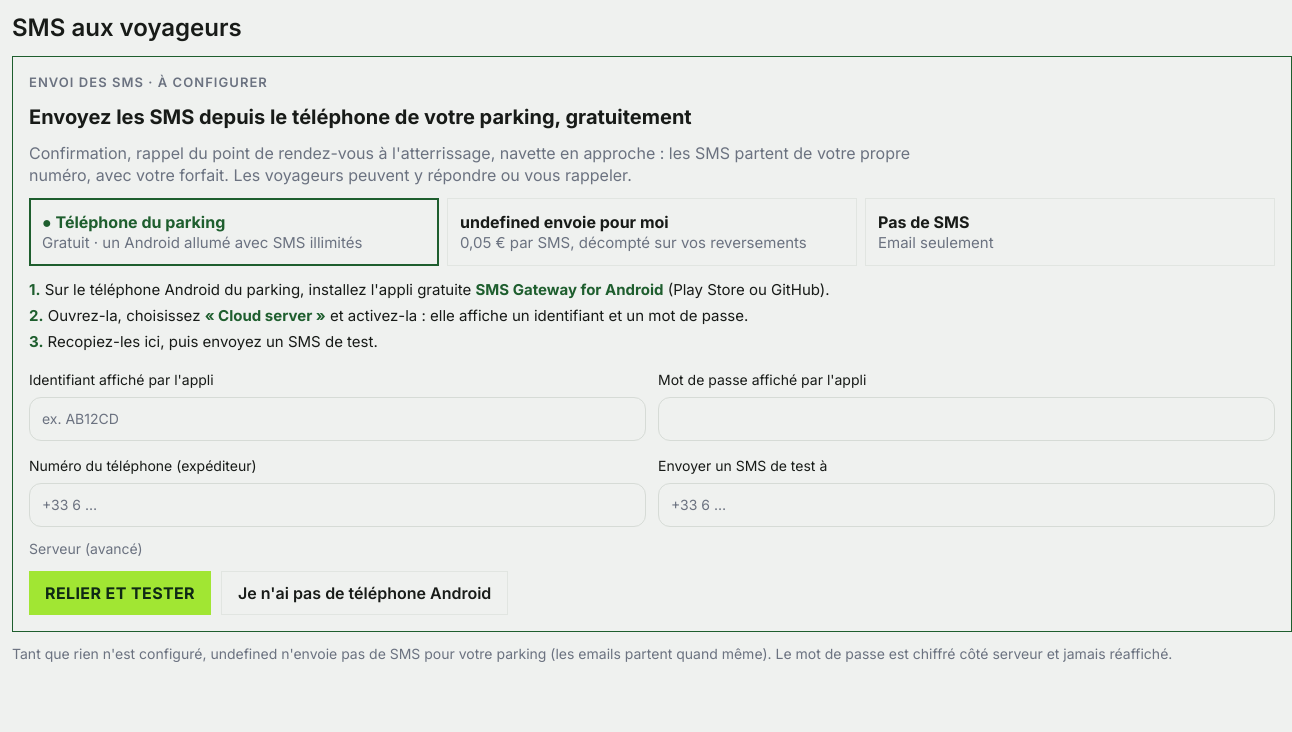
Test: SMS aux voyageurs : avant liaison › montre les erreurs de champ renvoyées par l'API
The image size is (1292, 732).
Step 1. Type "AB12CD" into the field labelled "Identifiant affiché par l'appli" → point(338, 419), box [29,397,646,441]
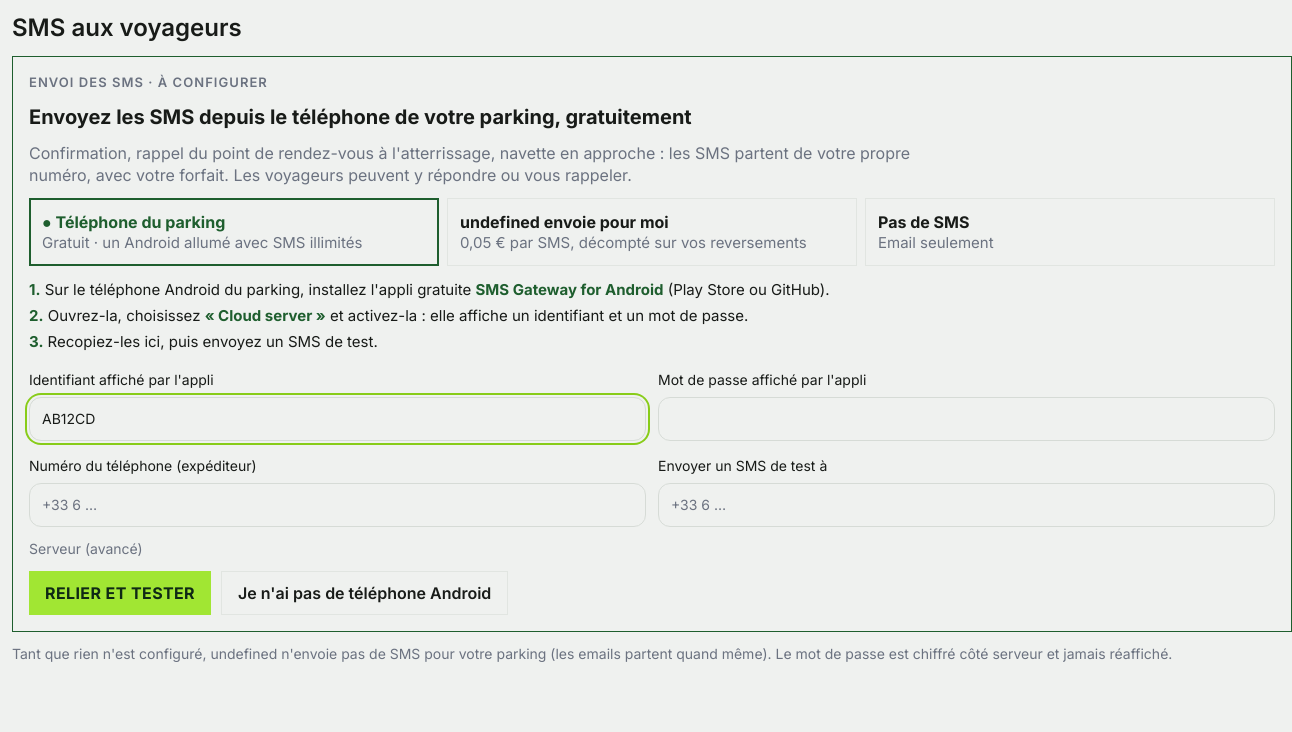
Step 2. Type "s3cret" into the password field labelled "Mot de passe affiché par l'appli" → point(966, 419), box [658,397,1275,441]
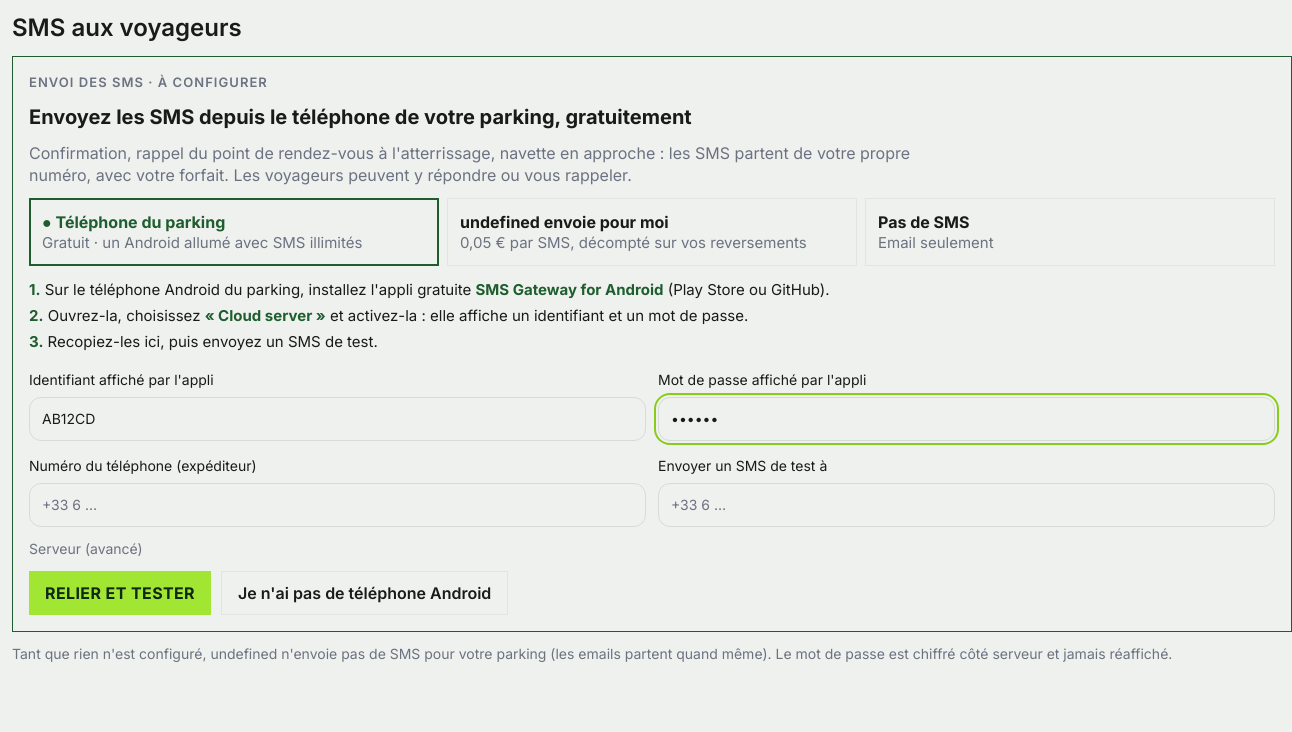
Step 3. Type "12" into the field labelled "Numéro du téléphone (expéditeur)" → point(338, 505), box [29,483,646,527]
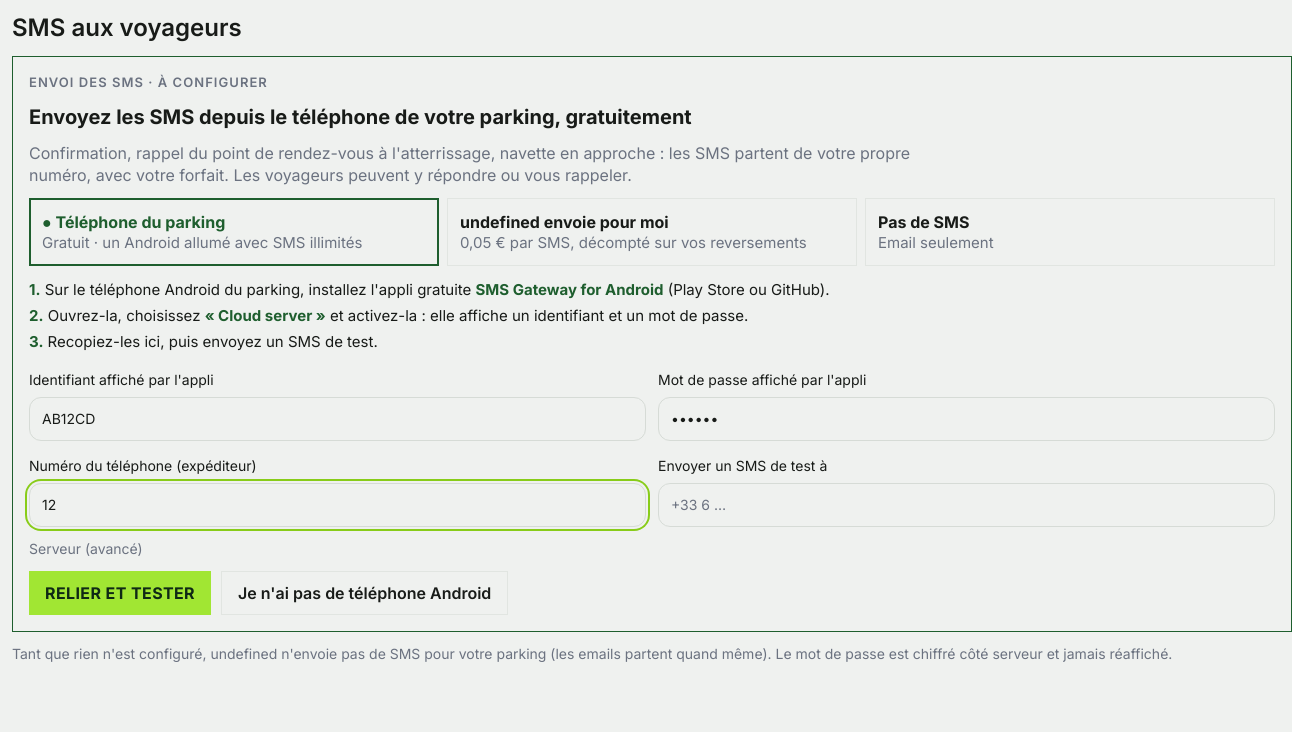
Step 4. Click the button "Relier et tester" → point(120, 593), box [29,571,211,615]
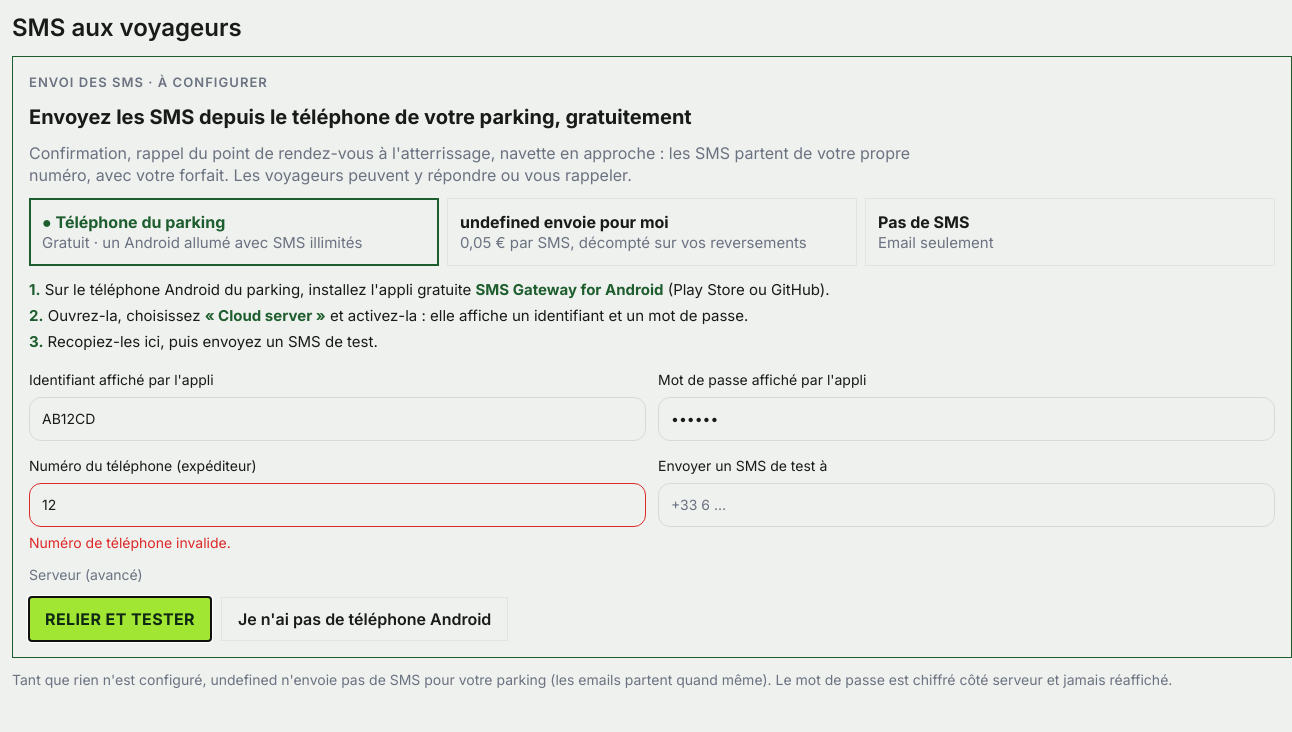
Check: the text "Numéro de téléphone invalide." is shown, box [29,534,231,551]
